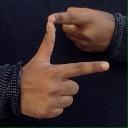hand: (19, 15, 110, 119), (47, 6, 115, 52)
